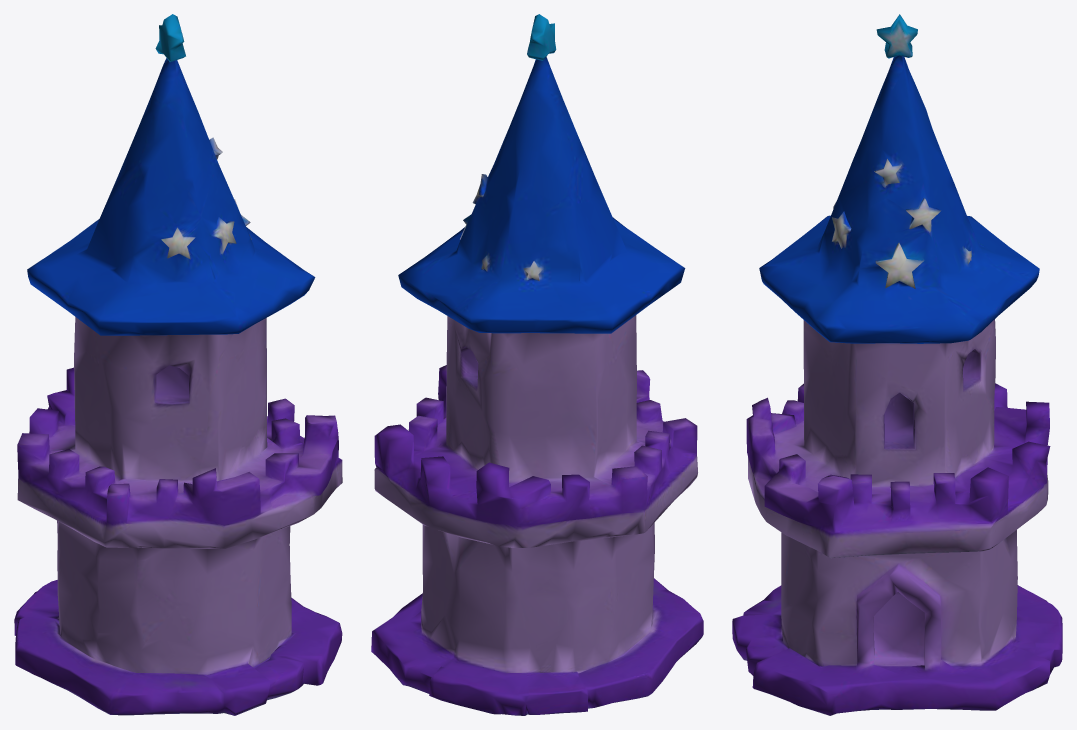
The model's file is wizard-tower.glb.
3 views of the same model, side by side, from view 1: azimuth 30°, elevation 25°; view 2: azimuth 150°, elevation 25°; view 3: azimuth 270°, elevation 25° (orthographic).
Parts seen in each view (by area): view 1: tripo_node_171f928c-b52f-4e77-bcbe-0d00421ed644; view 2: tripo_node_171f928c-b52f-4e77-bcbe-0d00421ed644; view 3: tripo_node_171f928c-b52f-4e77-bcbe-0d00421ed644.
Part boxes in pixels (left/top/right/bottom): tripo_node_171f928c-b52f-4e77-bcbe-0d00421ed644: left=14, top=14, right=342, bottom=715; tripo_node_171f928c-b52f-4e77-bcbe-0d00421ed644: left=371, top=14, right=703, bottom=715; tripo_node_171f928c-b52f-4e77-bcbe-0d00421ed644: left=732, top=14, right=1062, bottom=715.
Size of the model in its own units: 0.4445 by 1 by 0.4694.
1 material, 1 textured.
